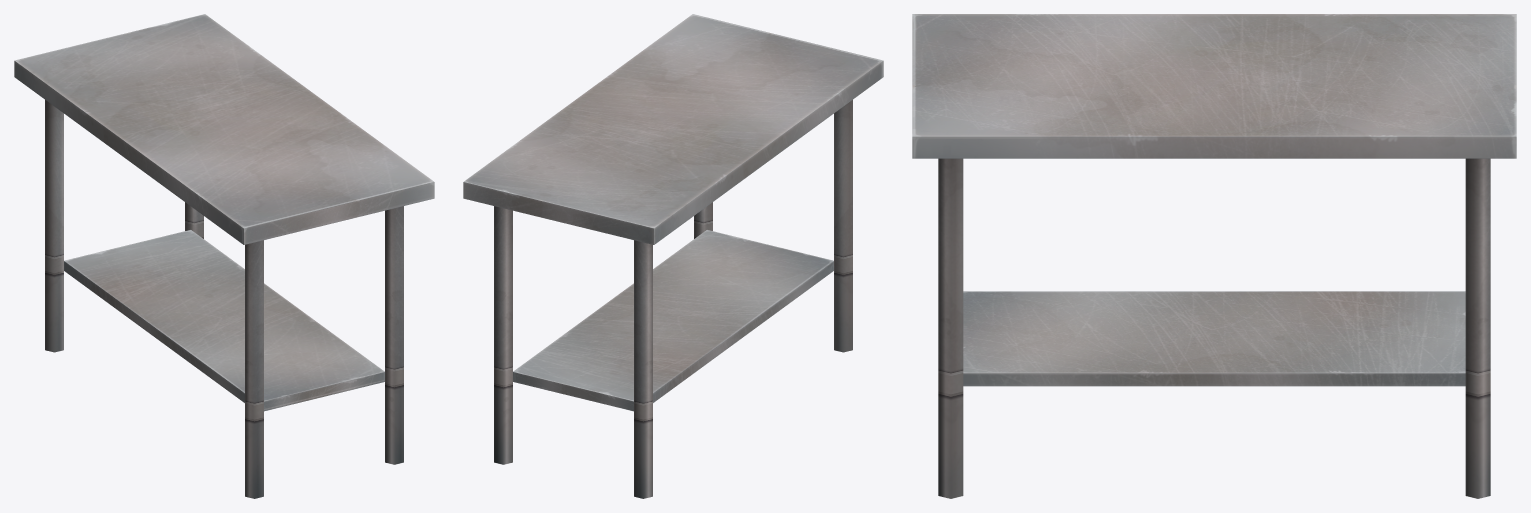
Rendered from kitchen_table01.fbx.
3 views of the same model, side by side, from view 1: azimuth 30°, elevation 25°; view 2: azimuth 150°, elevation 25°; view 3: azimuth 270°, elevation 25° (orthographic). The views are drawn at different scales.
Parts seen in each view (by area): view 1: kitchen_table01; view 2: kitchen_table01; view 3: kitchen_table01.
Part boxes in pixels (<box>): kitchen_table01: <box>14,14,434,498</box>; kitchen_table01: <box>463,14,883,498</box>; kitchen_table01: <box>912,14,1516,498</box>.
Bounding box in the file's own units: 60 × 85 × 125.
